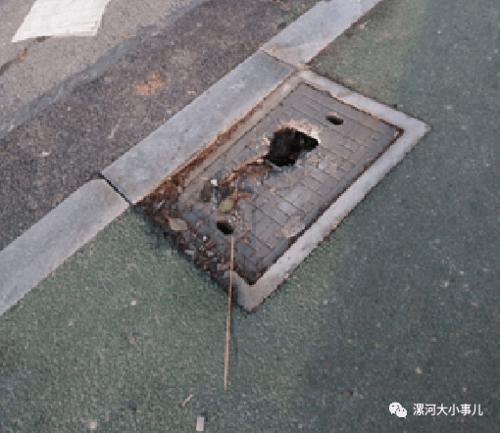broke: (130, 51, 449, 311)
